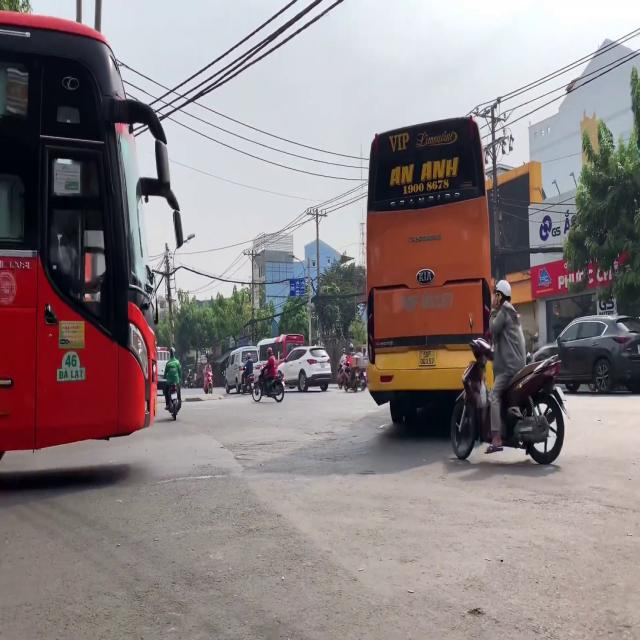bien_vang: (418, 348, 436, 365)
